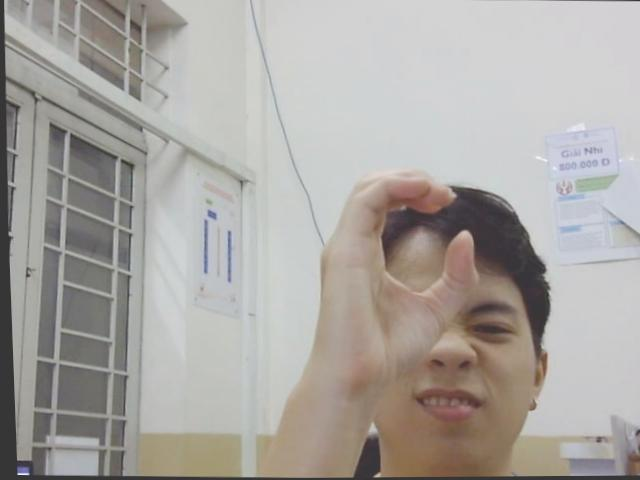C: (304, 163, 484, 383)
